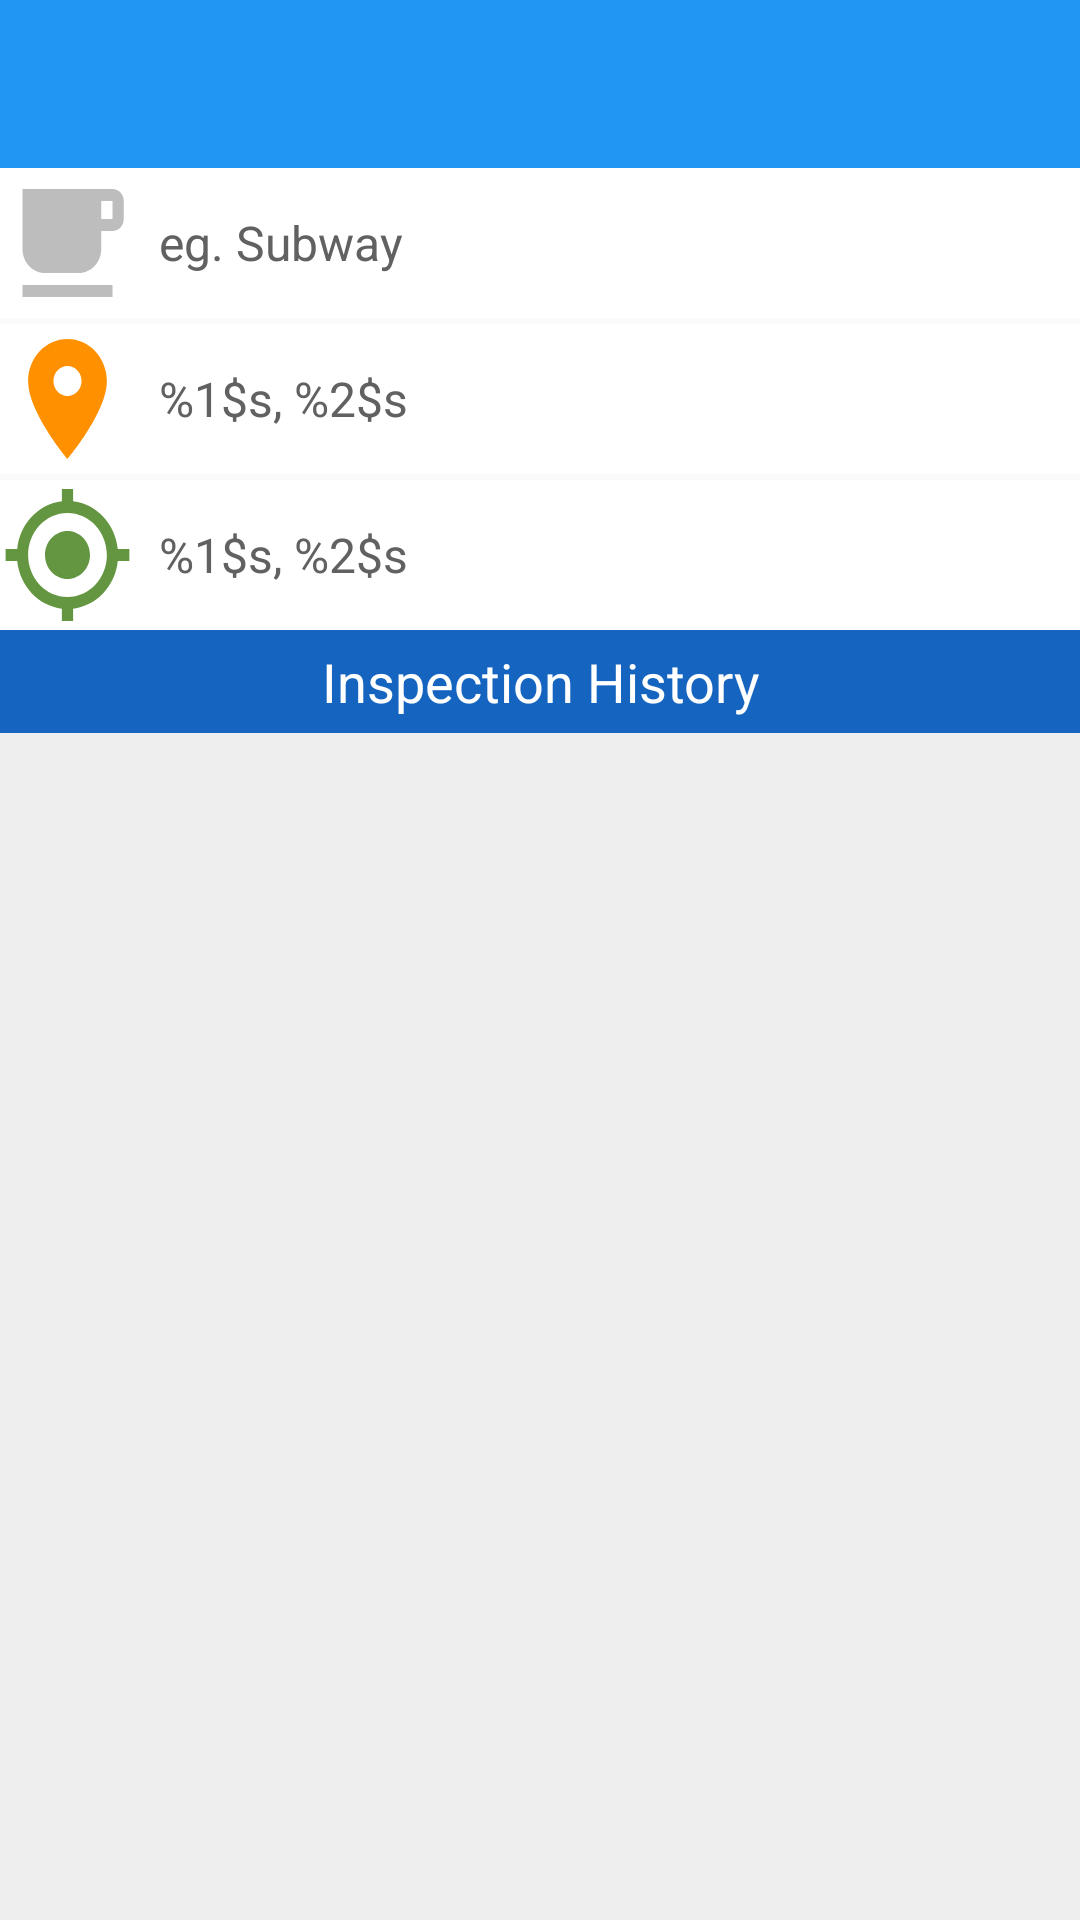

Icon click points for this 1080 × 1920 phone screenshot, format [x,y]:
restaurant: [73,243]
restaurant address: [67,399]
restaurant gps: [67,555]
